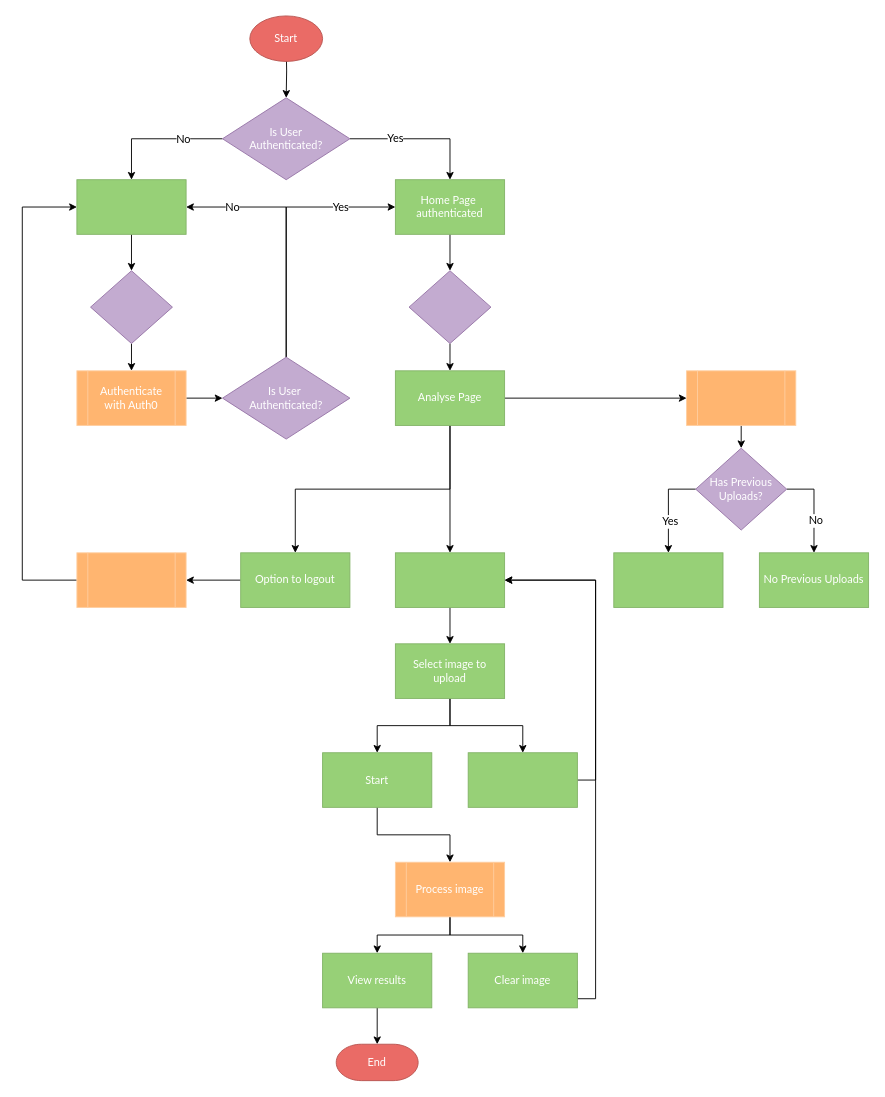
This 885x1097 diagram has some shape labels left out. The box of each missing label's shape, as (x1, y1, x2, y2) in pixels:
Continue?: (408, 270, 491, 344)
Download Previous Uploads: (686, 370, 796, 425)
Get Started?: (90, 270, 172, 344)
Home Page Unauthenticated: (76, 179, 186, 234)
Logout: (76, 552, 186, 607)
Option to upload an image: (394, 552, 505, 607)
Remove selected image: (467, 752, 577, 807)
Show Previous Uploads: (613, 552, 723, 607)
